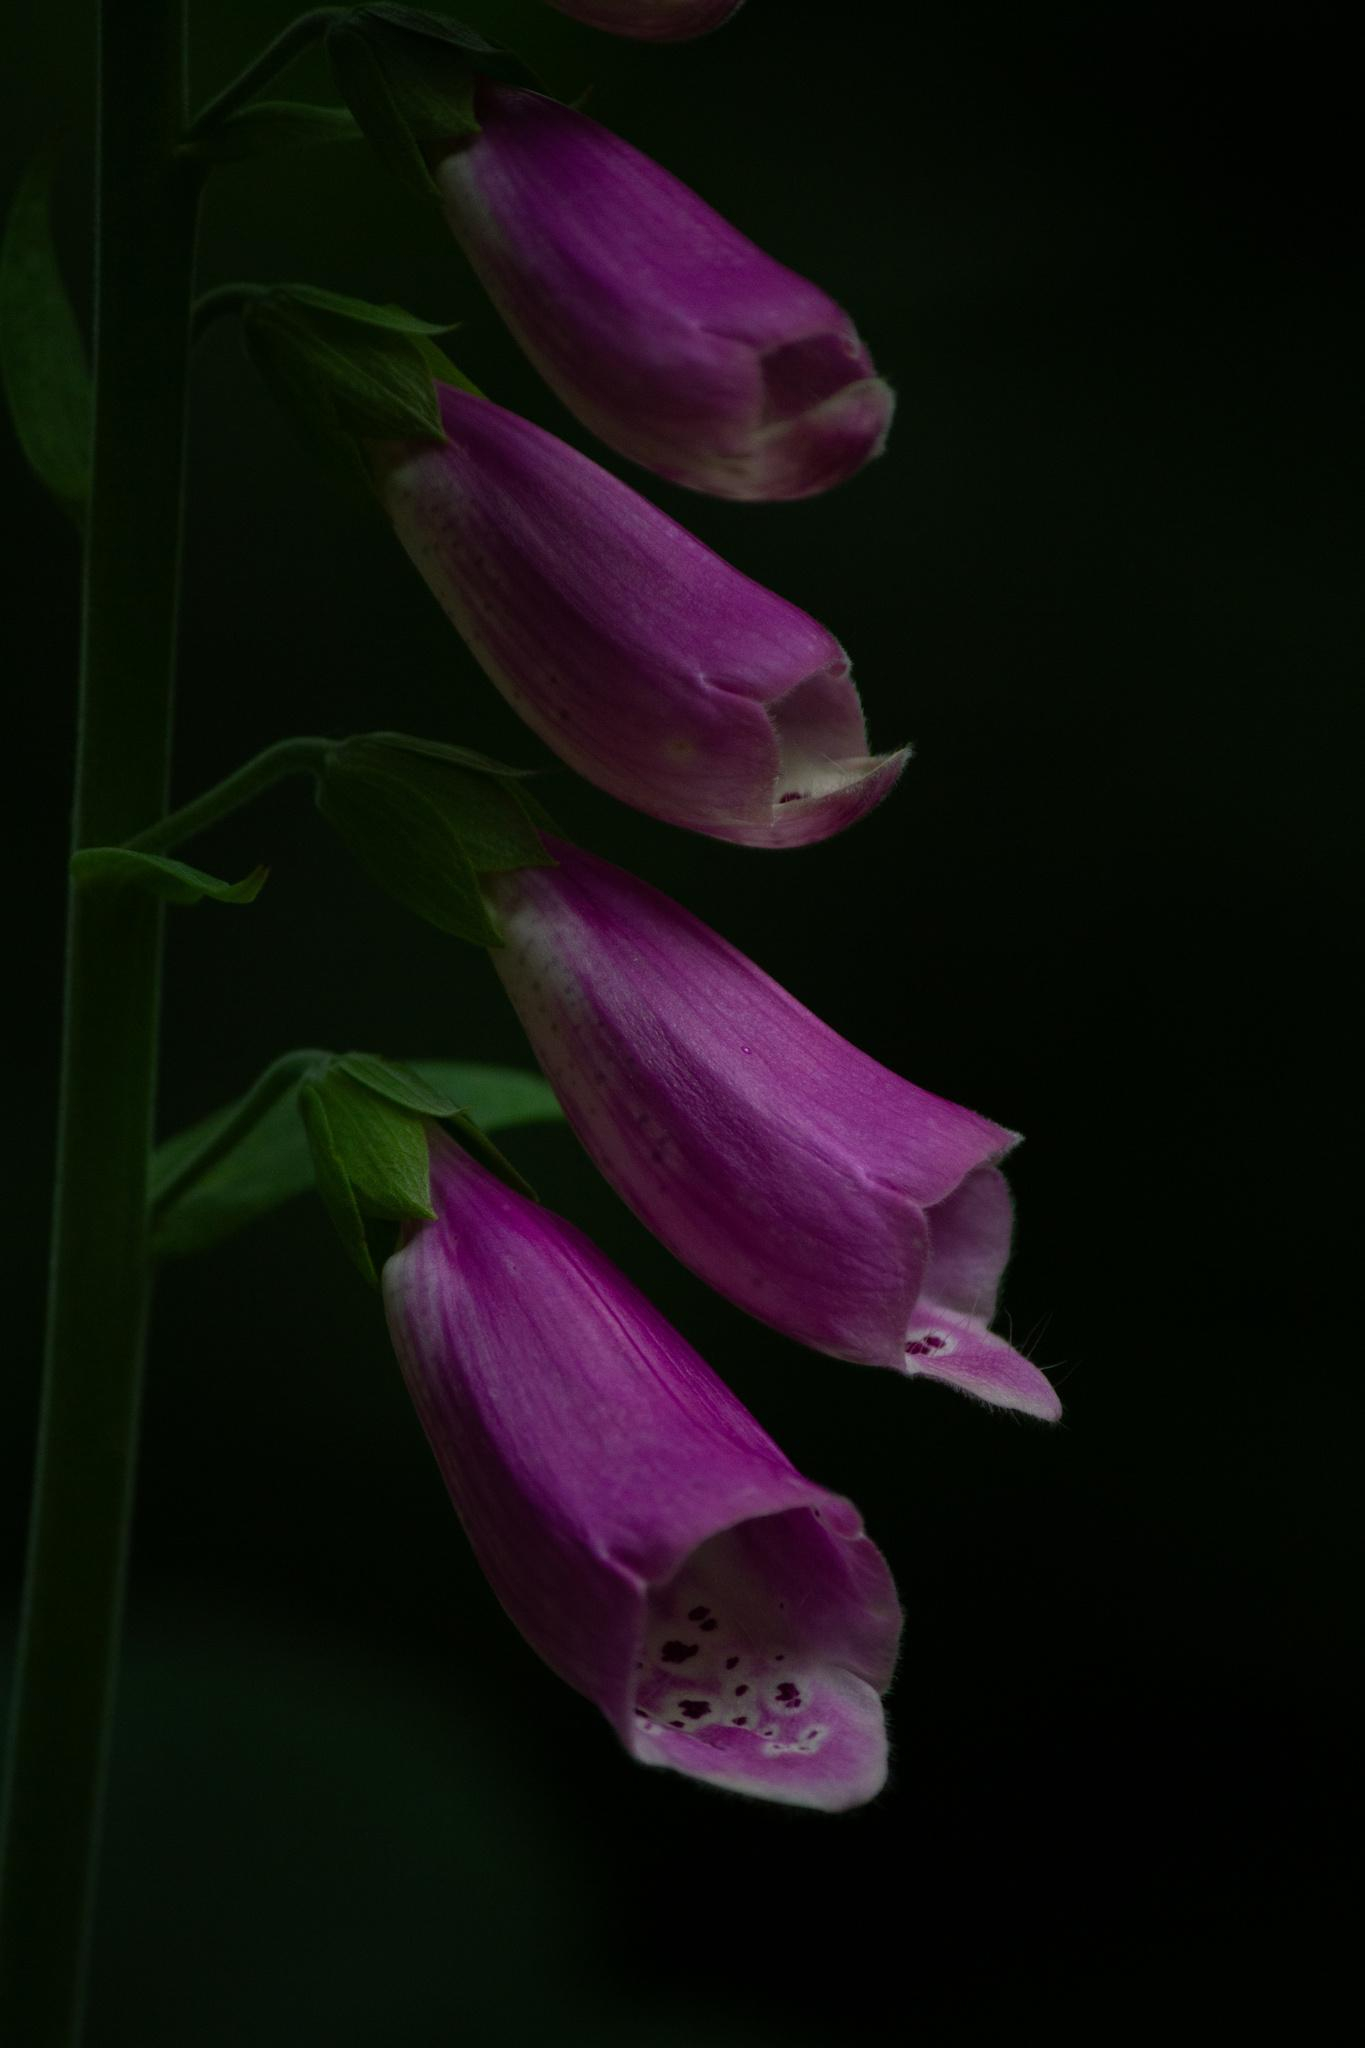Digitalis L: (0, 8, 1054, 1768)
